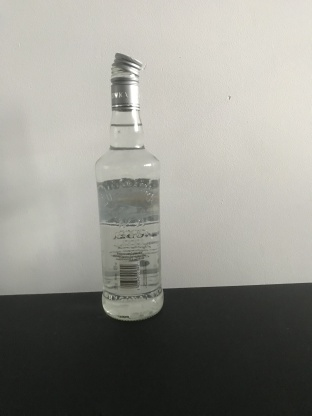nakretka: (108, 50, 143, 112)
